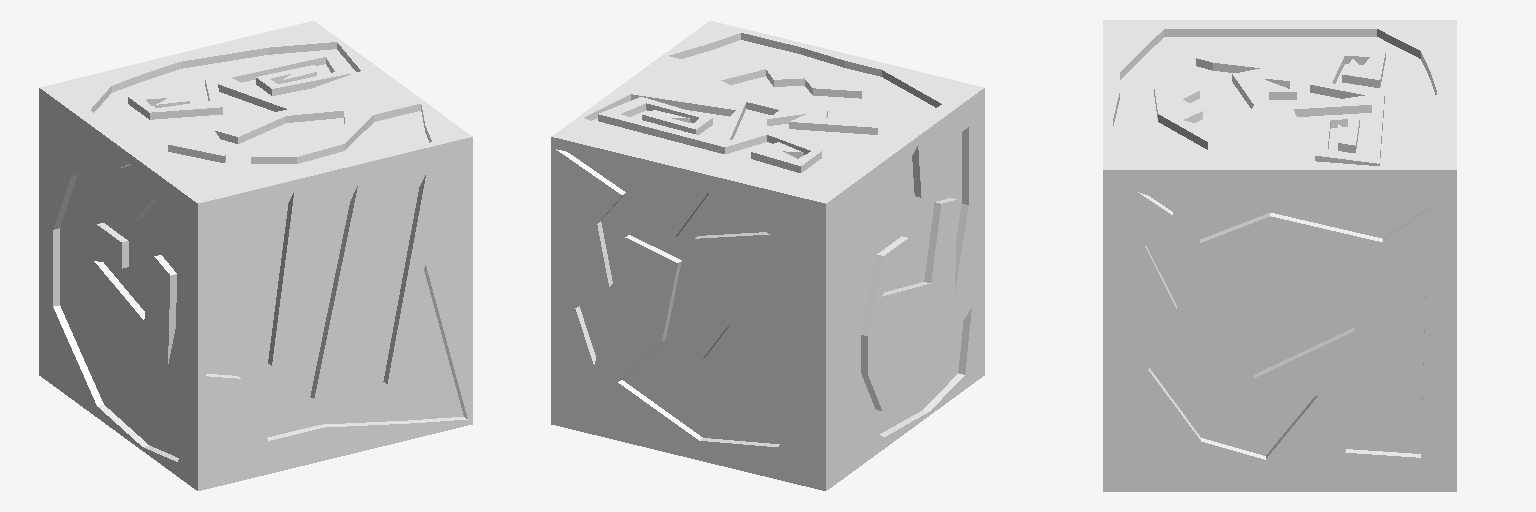
robot.urdf — urdf_robot:
<?xml version="1.0"?>
<robot name="urdf_robot">
  <link name="base_link">
    <contact>
      <rolling_friction value="0.0" />
      <spinning_friction value="0.0" />
      <lateral_friction value="10" />
      <restitution value="0.1" />
      <damping value="100" />
      <stiffness value="10000" />
    </contact>
    <inertial>
      <origin rpy="0 0 0" xyz="0 0 0" />
      <mass value="1.0" />
      <inertia ixx="1" ixy="0" ixz="0" iyy="1" iyz="0" izz="1" />
    </inertial>
    <visual>
      <origin rpy="0 0 0" xyz="0 0 0" />
      <geometry>
        <mesh filename="curved_cube.obj" scale="0.04 0.04 0.04" />
      </geometry>
      <material name="white">
        <color rgba="1 1 1 1" />
      </material>
    </visual>
    <collision>
      <origin rpy="0 0 0" xyz="0 0 0" />
      <geometry>
        <mesh filename="curved_cube.obj" scale="0.04 0.04 0.04" />
      </geometry>
    </collision>
  </link>
</robot>

--- What the picture shows (computed from the rendered views, not written in the file) ---
3 views of the same robot in one strip: view 1: azimuth 30°, elevation 25°; view 2: azimuth 150°, elevation 25°; view 3: azimuth 270°, elevation 25° (orthographic).
Robot: urdf_robot — 1 links, 0 joints (none); root link base_link; default pose: all joints at 0.
Links seen in each view (by area): view 1: base_link; view 2: base_link; view 3: base_link.
Link boxes in pixels (left/top/right/bottom): base_link: left=39, top=21, right=472, bottom=490; base_link: left=551, top=21, right=984, bottom=490; base_link: left=1103, top=20, right=1456, bottom=491.
Size in the robot's own frame: 0.04 by 0.04 by 0.04 metres.
1 mesh visuals loaded from 1 distinct referenced files (1 OBJ).